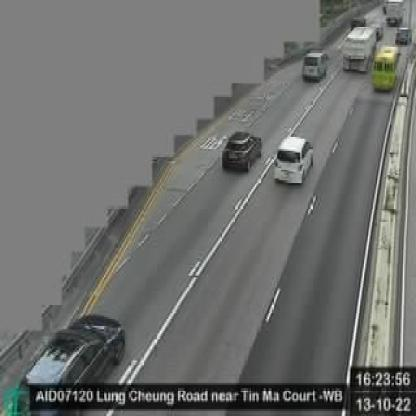Car: (15, 312, 131, 411), (273, 133, 315, 187), (220, 130, 263, 173), (300, 48, 328, 80), (398, 26, 414, 45)
Truck: (343, 21, 381, 72), (372, 42, 401, 95), (386, 0, 404, 25)
